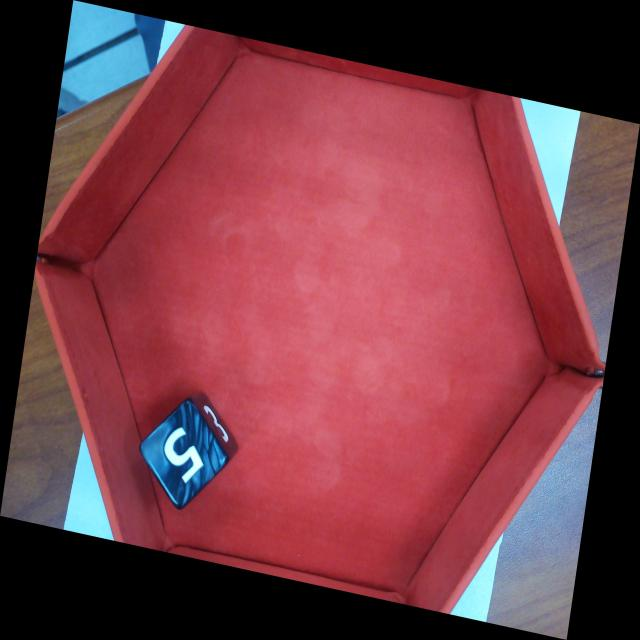dice: (141, 399, 228, 506)
